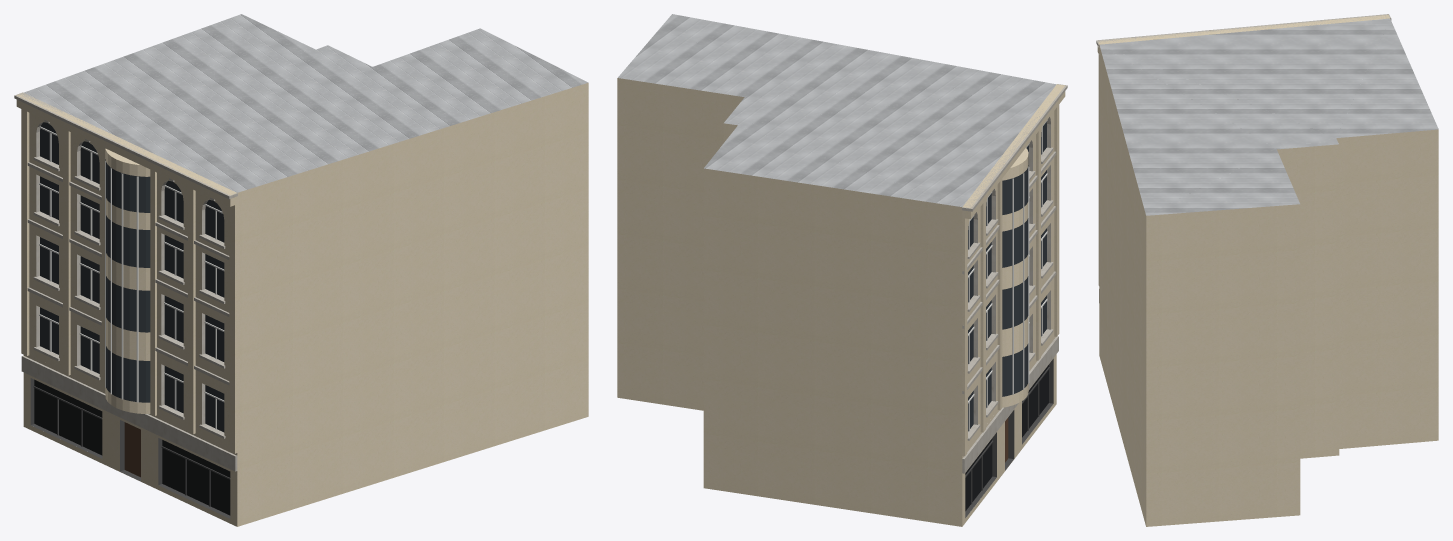
The picture shows the model from 3 angles, left to right: view 1: azimuth 30°, elevation 25°; view 2: azimuth 150°, elevation 25°; view 3: azimuth 270°, elevation 25°; orthographic projection. The views are drawn at different scales.
Parts seen in each view (by area): view 1: bldg_501410388_landmark; view 2: bldg_501410388_landmark; view 3: bldg_501410388_landmark.
Boxes of the visible parts, <box> form: bldg_501410388_landmark: <box>14,14,588,526</box>; bldg_501410388_landmark: <box>617,14,1067,526</box>; bldg_501410388_landmark: <box>1096,14,1438,526</box>.
Bounding box in the file's own units: 24.48 × 17.6 × 17.56.
8 materials, 3 textured.
